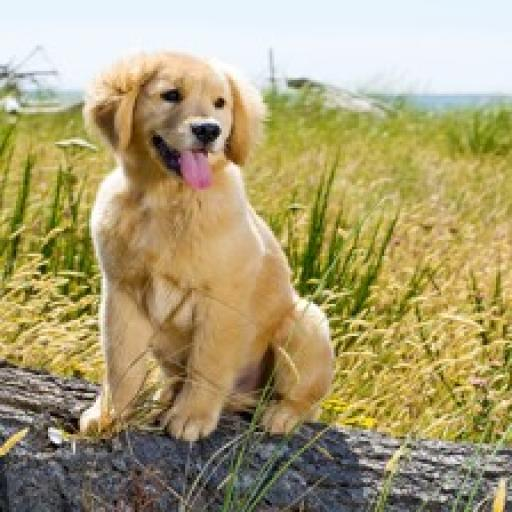dog: (76, 47, 341, 440)
